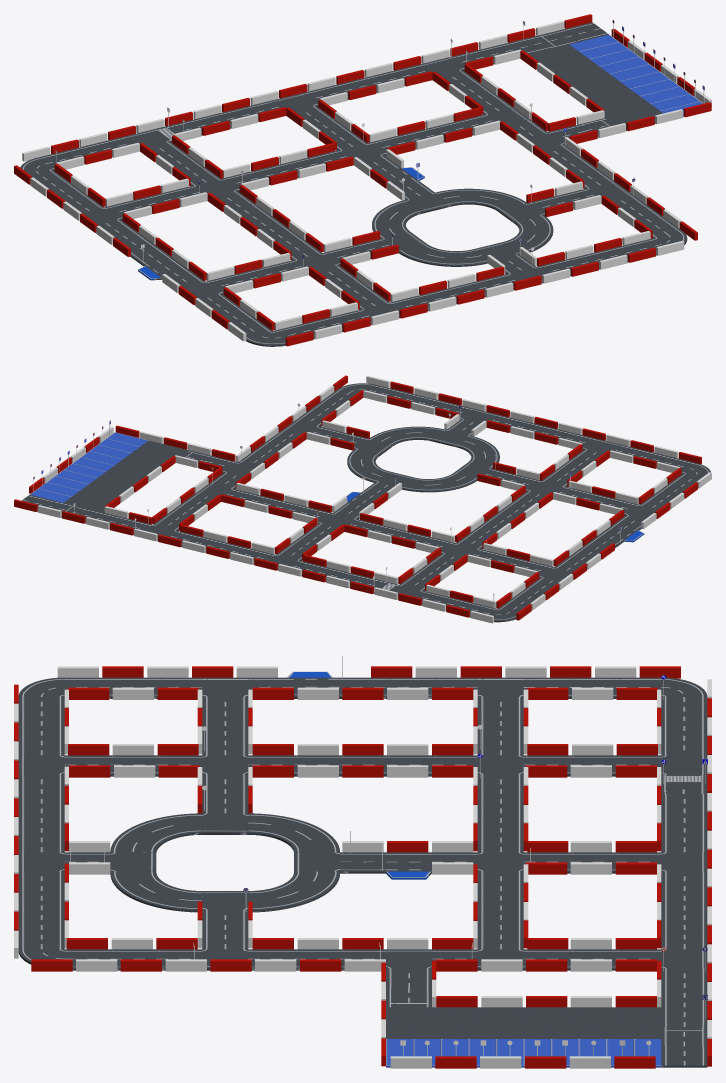
File: Harita.dae
The picture shows the model from 3 angles, top to bottom: view 1: azimuth 30°, elevation 25°; view 2: azimuth 150°, elevation 25°; view 3: azimuth 270°, elevation 25°; orthographic projection. The views are drawn at different scales.
Visible parts, largest first — view 1: O-Yol.004, O-Yol.001, O-Yol, O-Yol.003, Boş.004, Boş.003, Boş.002, Boş, Boş.001, T-Yol.012, T-Yol.013; view 2: O-Yol, O-Yol.003, O-Yol.001, O-Yol.004, Boş.006, Boş, Boş.004, Boş.003, Boş.002, Boş.001, T-Yol.014; view 3: O-Yol.003, O-Yol.001, O-Yol.004, O-Yol, Boş.003, Boş.002, Boş.001, Boş, Boş.006, Boş.004, T-Yol.011, DüzYol.002 (+64 smaller).
Boxes of the visible parts, x1,y1,x2,y2 form: O-Yol.004: (399, 244, 487, 266); O-Yol.001: (435, 188, 526, 211); O-Yol: (372, 199, 422, 238); O-Yol.003: (503, 215, 553, 253); Boş.004: (596, 94, 652, 117); Boş.003: (579, 81, 636, 103); Boş.002: (563, 69, 619, 91); Boş: (529, 44, 585, 66); Boş.001: (546, 57, 602, 78); T-Yol.012: (406, 192, 451, 213); T-Yol.013: (498, 203, 543, 223); O-Yol: (402, 473, 477, 492); O-Yol.003: (369, 426, 446, 445); O-Yol.001: (347, 449, 389, 482); O-Yol.004: (457, 436, 499, 468); Boş.006: (135, 440, 188, 458); Boş: (64, 492, 111, 512); Boş.004: (121, 451, 168, 469); Boş.003: (106, 461, 153, 479); Boş.002: (92, 471, 139, 490); Boş.001: (78, 482, 125, 500); T-Yol.014: (432, 430, 470, 447); O-Yol.003: (110, 871, 202, 912); O-Yol.001: (248, 871, 339, 912); O-Yol.004: (110, 813, 202, 852); O-Yol: (248, 813, 339, 852); Boş.003: (477, 1007, 523, 1038); Boş.002: (523, 1007, 569, 1038); Boş.001: (569, 1007, 615, 1038); Boş: (615, 1007, 661, 1038); Boş.006: (386, 1007, 431, 1038); Boş.004: (432, 1007, 477, 1038); T-Yol.011: (202, 813, 248, 834); DüzYol.002: (661, 1046, 707, 1067).
Size of the model in its own units: 81.65 by 60.8 by 2.6.
38 materials, 27 textured.
